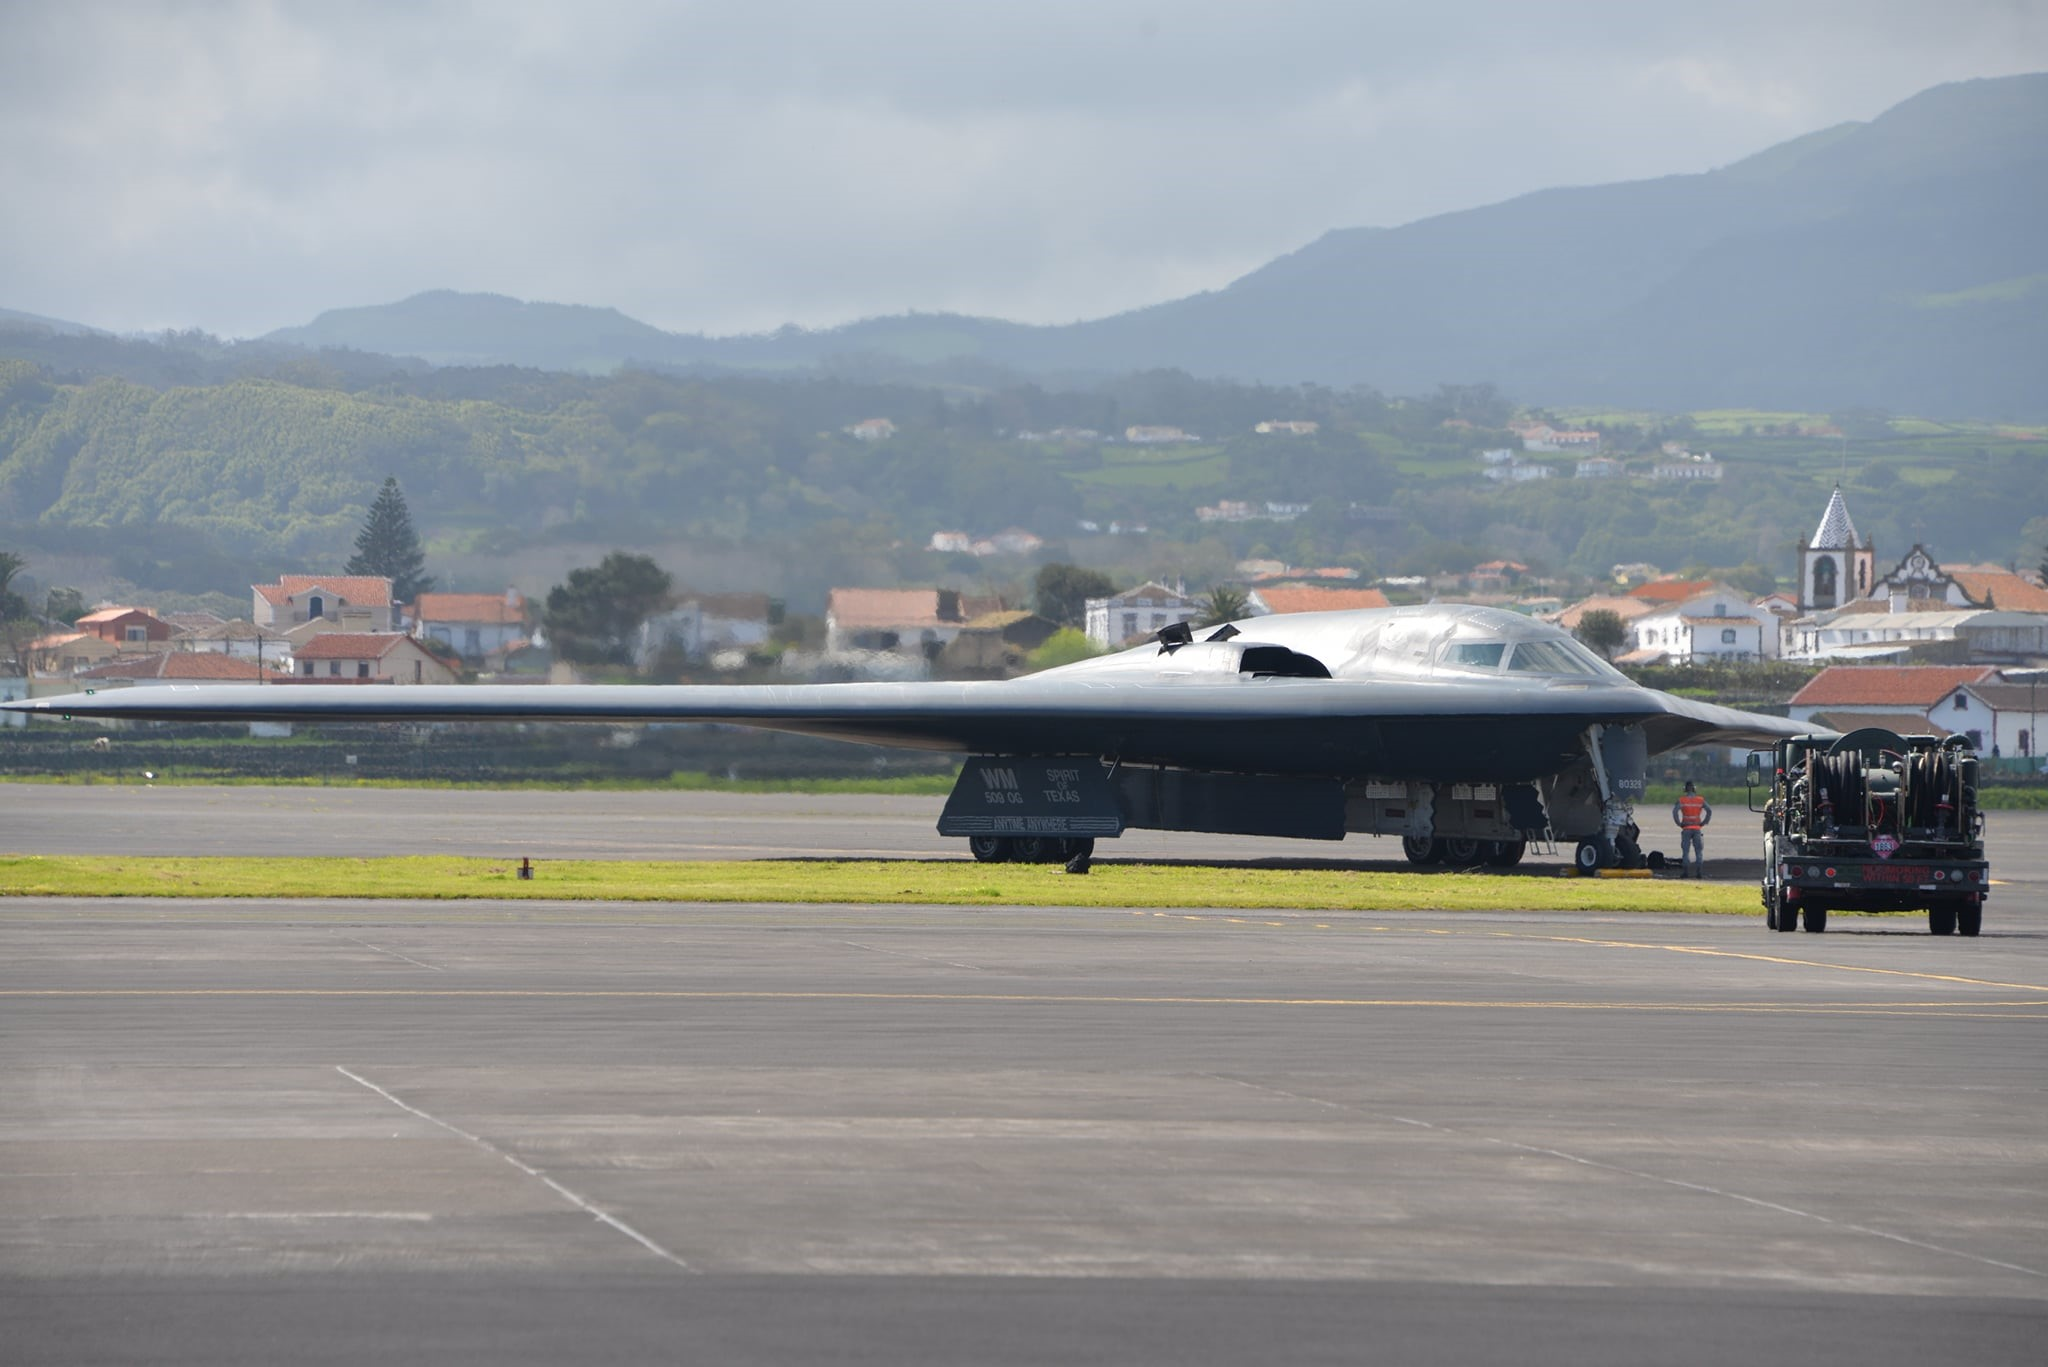B2: (2, 603, 1841, 877)
